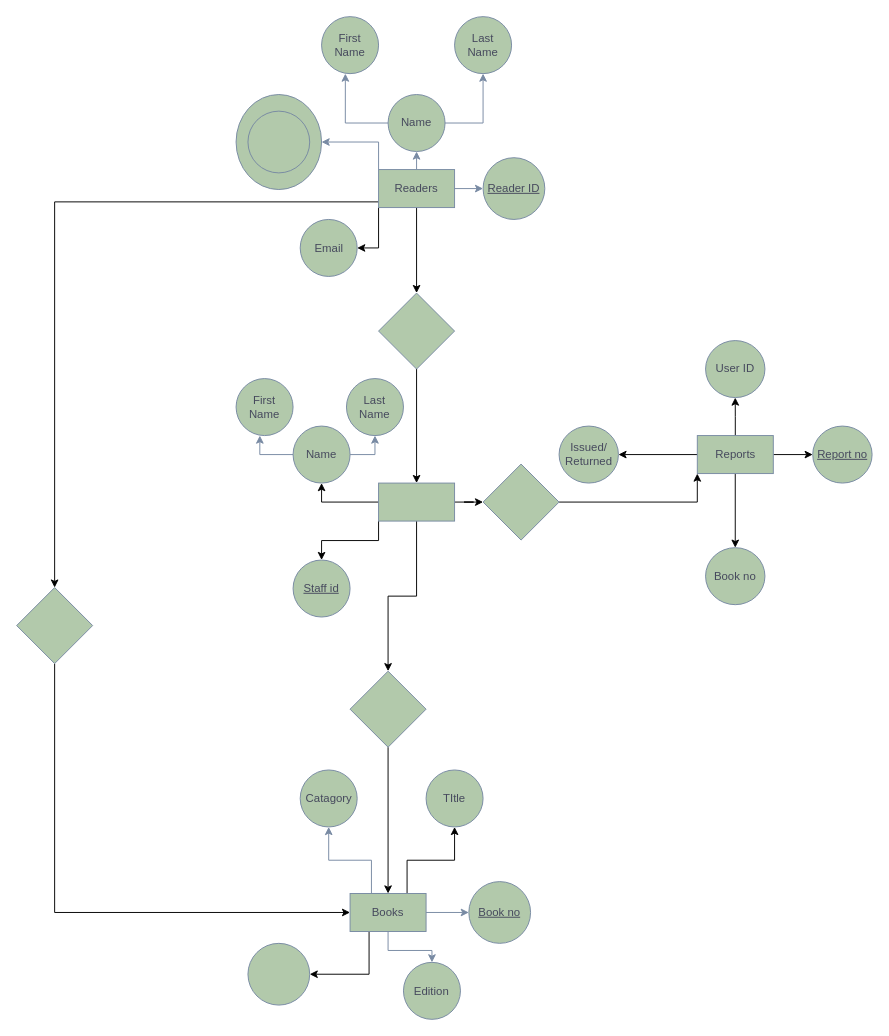
This 889x1036 diagram has some shape labels left out. Each missing label, with the centre of its shape:
"Keeps Track of" goes at (416,330).
"Maintanances" goes at (387,708).
"Manages" goes at (520,501).
"Phone Number" goes at (278,141).
"Price" goes at (278,973).
"Staff" goes at (416,501).
"Takes/Return" goes at (54,625).
